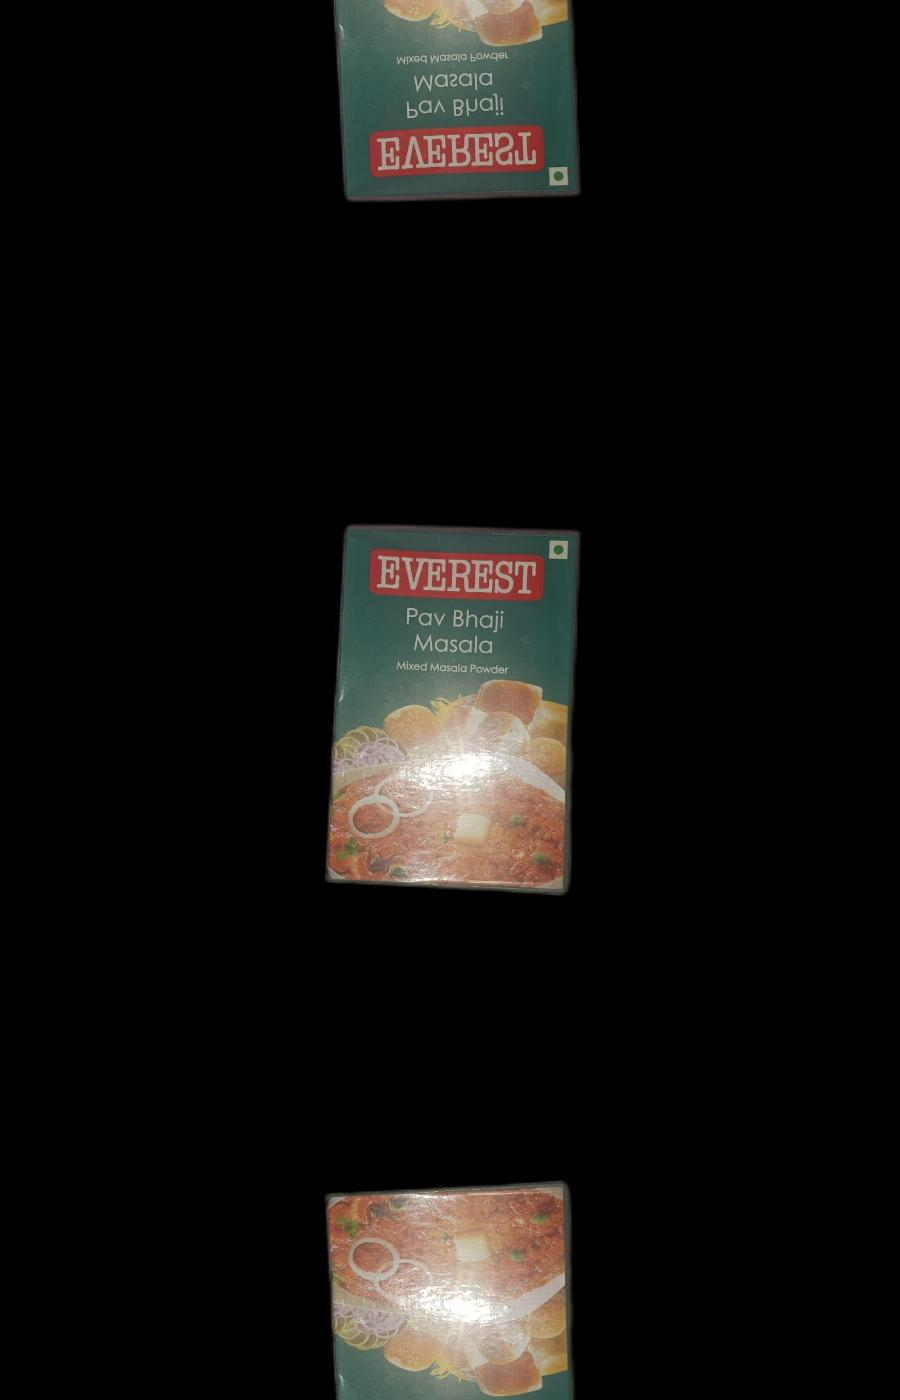Everest Pav Bhaji Masala 100 g: (319, 511, 579, 899), (319, 1174, 578, 1400), (319, 0, 578, 212)
